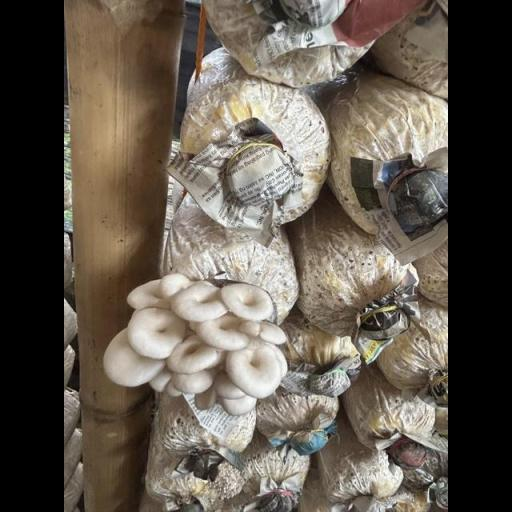White Oyster Mushroom: (98, 271, 292, 420)
